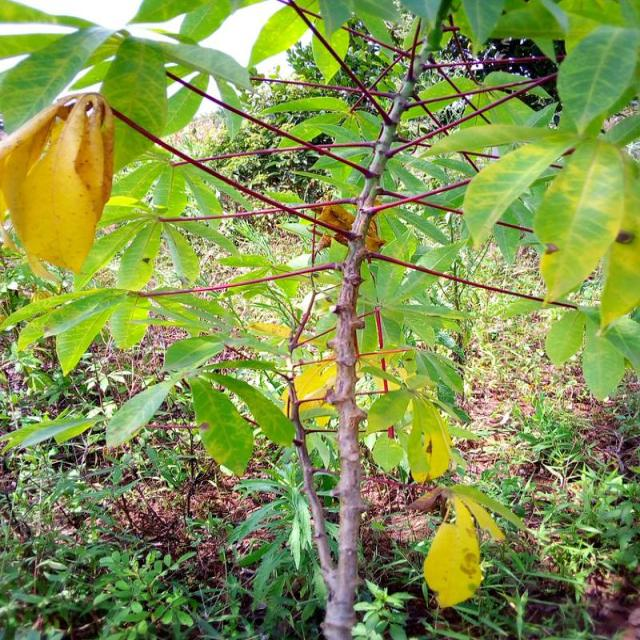cassava leaf: (0, 90, 115, 282), (532, 137, 624, 304)
